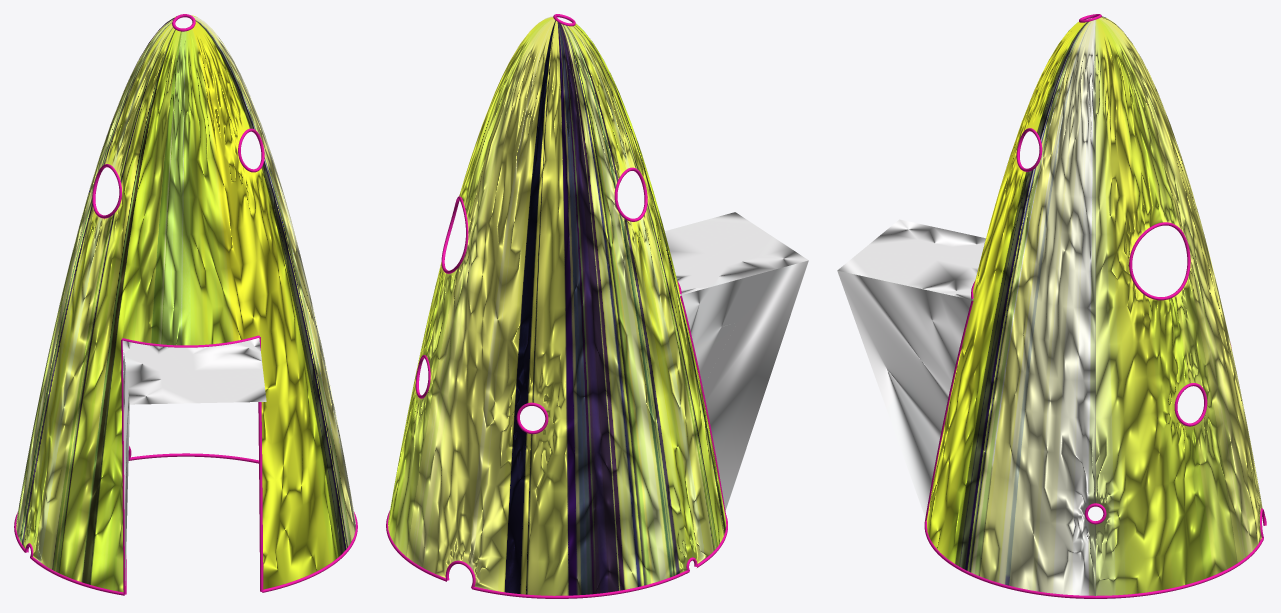
3 renders of one model, left to right at view 1: azimuth 30°, elevation 25°; view 2: azimuth 150°, elevation 25°; view 3: azimuth 270°, elevation 25°, orthographic.
Visible parts, largest first — view 1: Solids, Solids_2, Canopy, Openings, Canopy_2; view 2: Solids, Canopy, Solids_2, Canopy_2, Openings; view 3: Solids, Canopy, Solids_2, Canopy_2, Openings.
Boxes of the visible parts, bbox=[...] form: Solids: bbox=[16, 15, 355, 592]; Solids_2: bbox=[17, 18, 355, 591]; Canopy: bbox=[122, 338, 266, 585]; Openings: bbox=[14, 14, 357, 595]; Canopy_2: bbox=[123, 339, 265, 584]; Solids: bbox=[388, 16, 726, 595]; Canopy: bbox=[665, 212, 808, 510]; Solids_2: bbox=[388, 17, 725, 595]; Canopy_2: bbox=[665, 214, 807, 494]; Openings: bbox=[386, 14, 727, 598]; Solids: bbox=[926, 16, 1262, 595]; Canopy: bbox=[837, 219, 985, 517]; Solids_2: bbox=[927, 17, 1260, 595]; Canopy_2: bbox=[838, 221, 985, 504]; Openings: bbox=[924, 14, 1266, 598].
Bounding box in the file's own units: 6.46 × 10.45 × 7.96.
Materials: 3 (3 with a texture image).
